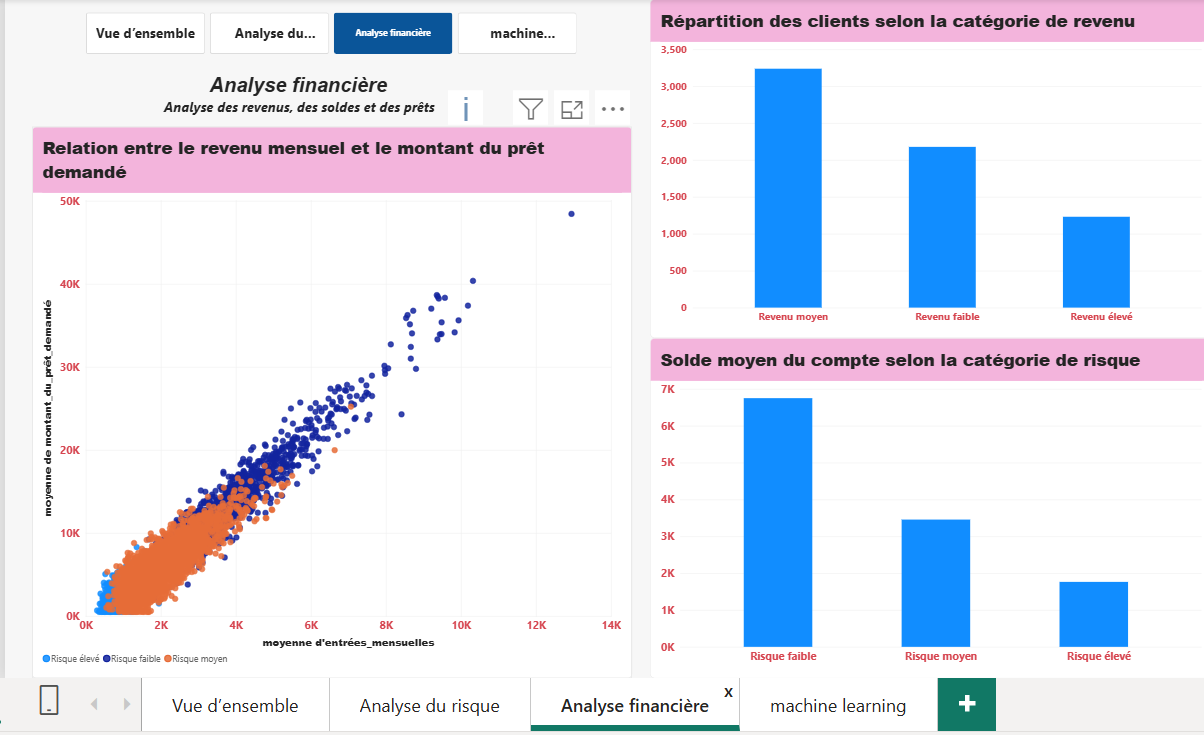

The dashboard page shown, as its layout file describes it:
{"tool":"powerbi","page":{"name":"Analyse financière","canvas":[1920,1080],"ordinal":2},"visuals":[{"type":"scatterChart","title":"Relation entre le revenu mensuel et le montant du prêt demandé","fields":{"Category":["banking_analysis_final.ID"],"Series":["banking_analysis_final.categorie_risque"],"X":["Avg(banking_analysis_final.entrées_mensuelles)"],"Y":["Avg(banking_analysis_final.montant_du_prêt_demandé)"]},"box":[42.9,202.8,954.4,878],"z":0},{"type":"columnChart","title":"Solde moyen du compte selon la catégorie de risque","fields":{"Category":["banking_analysis_final.categorie_risque"],"Y":["Avg(banking_analysis_final.compte_solde)"]},"box":[1025.9,539.2,894.7,541.6],"z":1000},{"type":"clusteredColumnChart","title":"Répartition des clients selon la catégorie de revenu","fields":{"Category":["banking_analysis_final.categorie_revenu"],"Y":["CountNonNull(banking_analysis_final.ID)"]},"box":[1025.9,0,894.7,539.2],"z":2000},{"type":"textbox","box":[147.9,119.3,637,83.5],"z":3000},{"type":"pageNavigator","box":[128.8,21.5,782.6,66.8],"z":8000}]}

Visuals, with their boxes on the page's 1920x1080 design canvas (x1, y1, x2, y2). These are canvas units, not pixel positions in the 1204x735 screenshot, which may show the page scaled, cropped or inside an application window:
"Relation entre le revenu mensuel et le montant du prêt demandé" scatterChart: rect(43, 203, 997, 1081)
"Solde moyen du compte selon la catégorie de risque" columnChart: rect(1026, 539, 1921, 1081)
"Répartition des clients selon la catégorie de revenu" clusteredColumnChart: rect(1026, 0, 1921, 539)
textbox: rect(148, 119, 785, 203)
pageNavigator: rect(129, 22, 911, 88)
